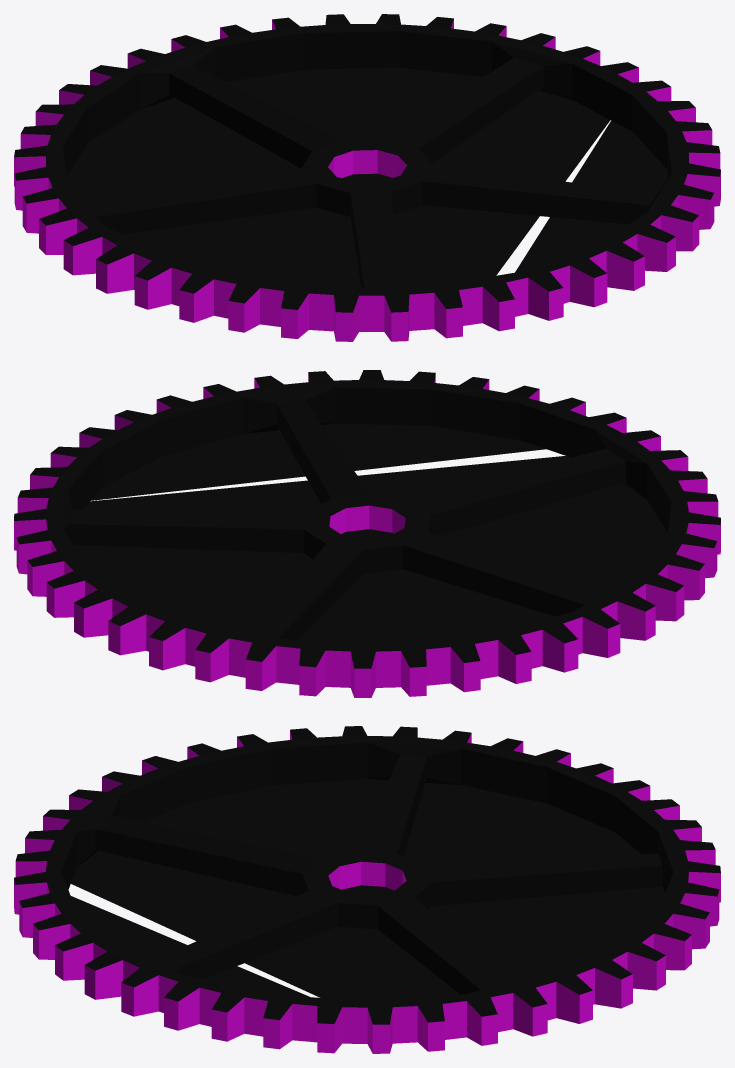
Rendered from D4GearV2.fbx.
3 views of the same model, one above another, from view 1: azimuth 30°, elevation 25°; view 2: azimuth 150°, elevation 25°; view 3: azimuth 270°, elevation 25° (orthographic).
Parts seen in each view (by area): view 1: D4GearV2; view 2: D4GearV2; view 3: D4GearV2.
Boxes of the visible parts, left/top/right/bottom form: D4GearV2: left=14, top=14, right=720, bottom=341; D4GearV2: left=14, top=370, right=720, bottom=697; D4GearV2: left=14, top=726, right=720, bottom=1053.
Bounding box in the file's own units: 8.8 × 0.5 × 8.8.
